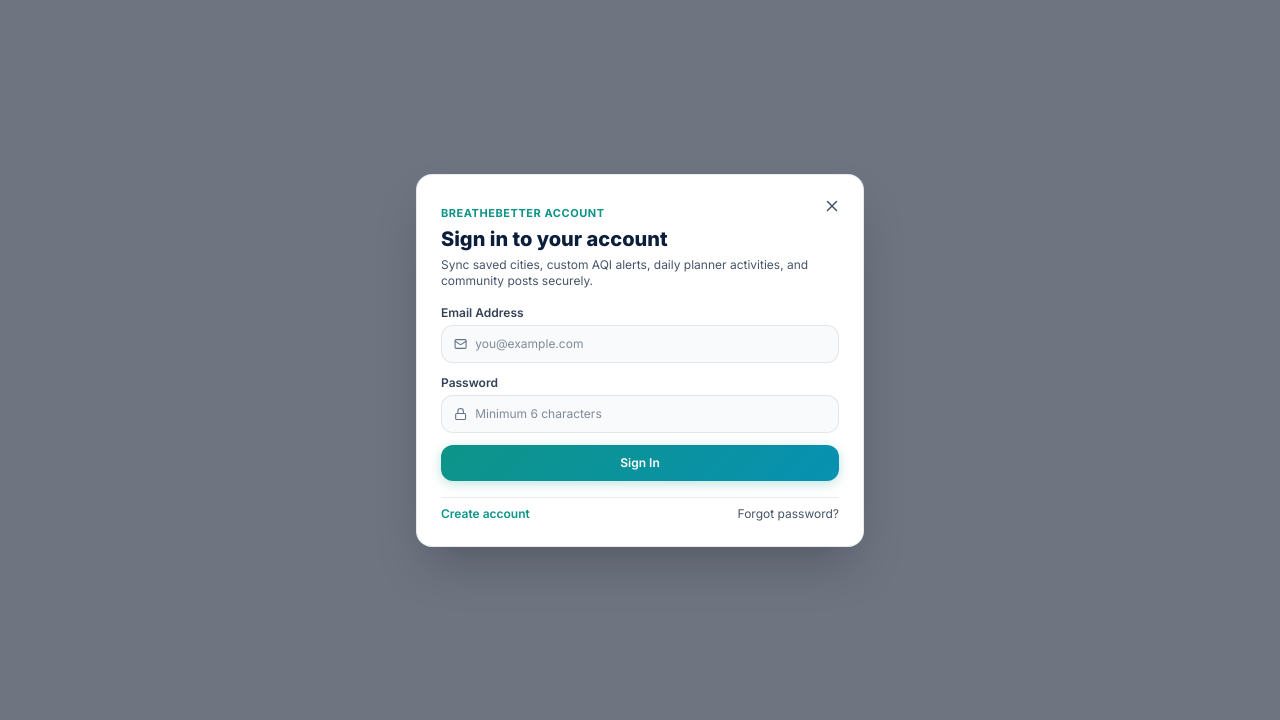
Test: React Components & Accessibility Tests › AuthModal supports accessible dialog attributes, mode switching, and Escape close
Later steps or results of the test are not shown.
Click the button "Create account". click: (485, 514)
box: [441,506,530,522]
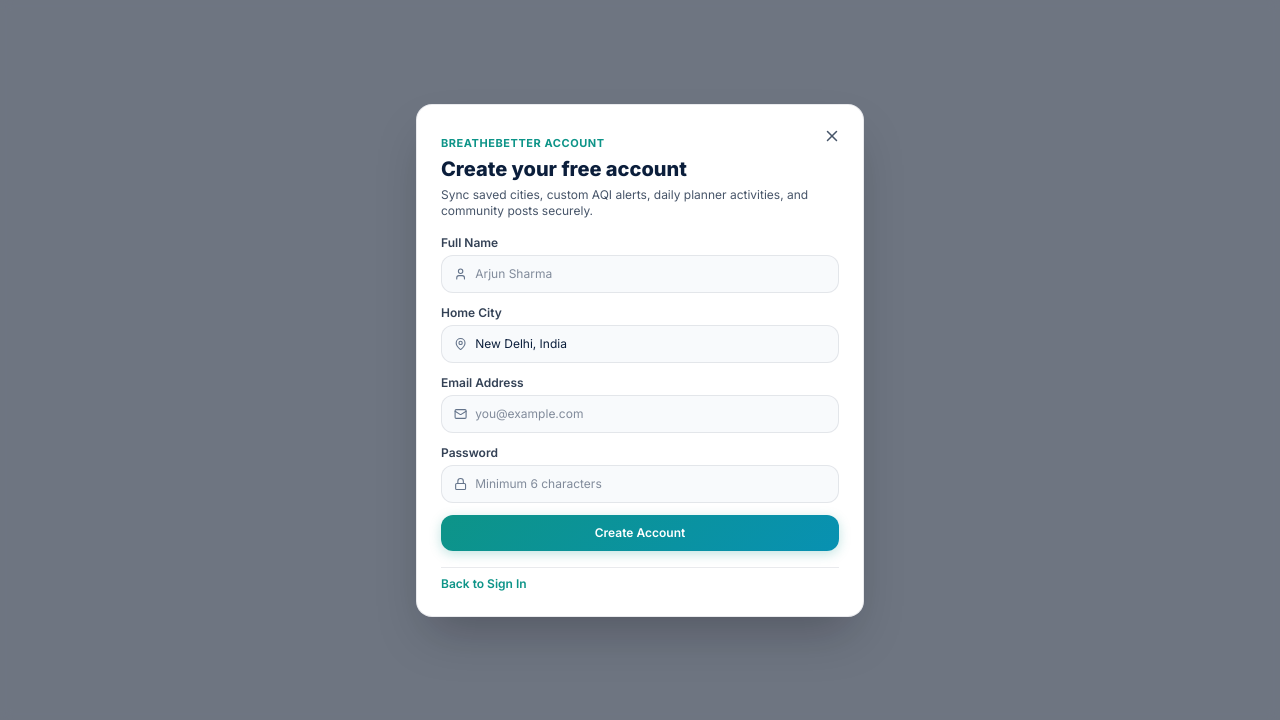
Expected: the heading "Create your free account" is shown, [441,156,687,180]
